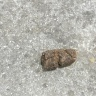Dog: (41, 49, 76, 70)
